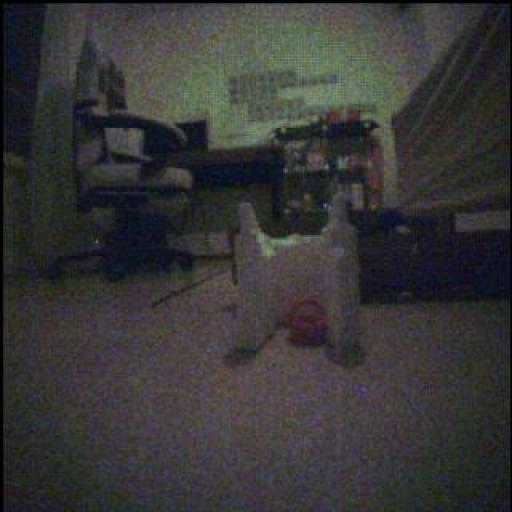basket: (289, 300, 327, 347)
